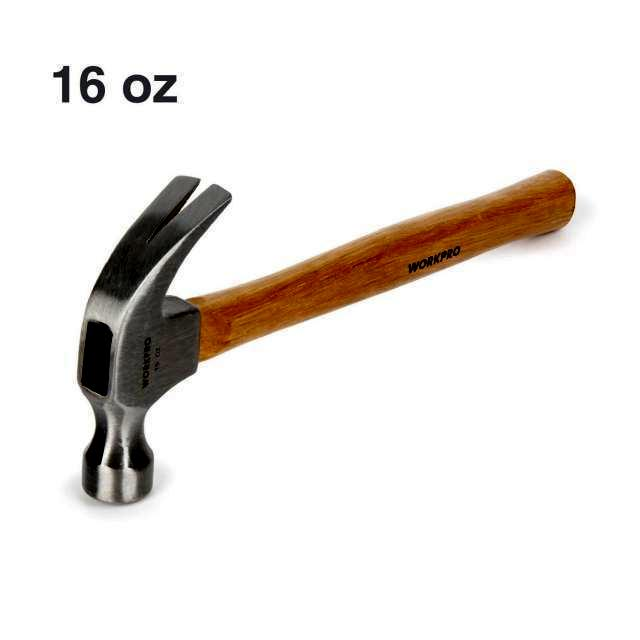hammer: (62, 158, 586, 510)
